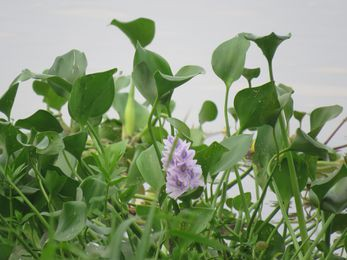water_hyacinth: (2, 14, 346, 240)
